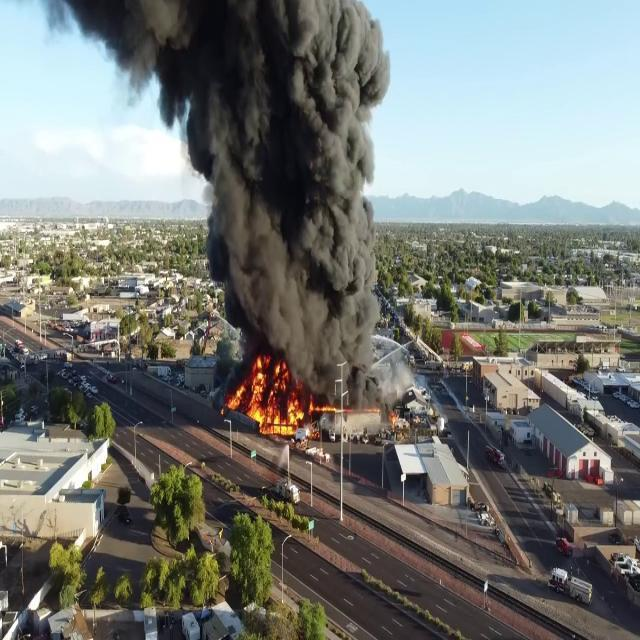Fire: (230, 346, 309, 438)
Smoke: (105, 0, 413, 390)
